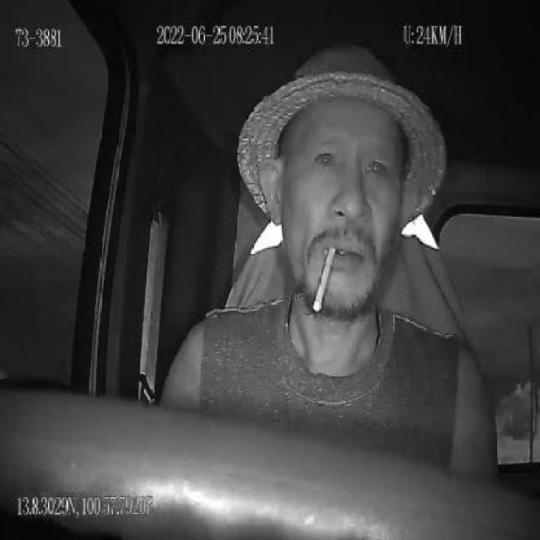smoking: (311, 242, 337, 317)
